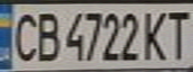2: (118, 8, 142, 62), (103, 8, 124, 62)
4: (60, 8, 84, 62)
7: (81, 8, 106, 62)
B: (30, 8, 63, 62)
C: (6, 8, 42, 63)
K: (139, 7, 172, 62)
T: (160, 7, 193, 61)
